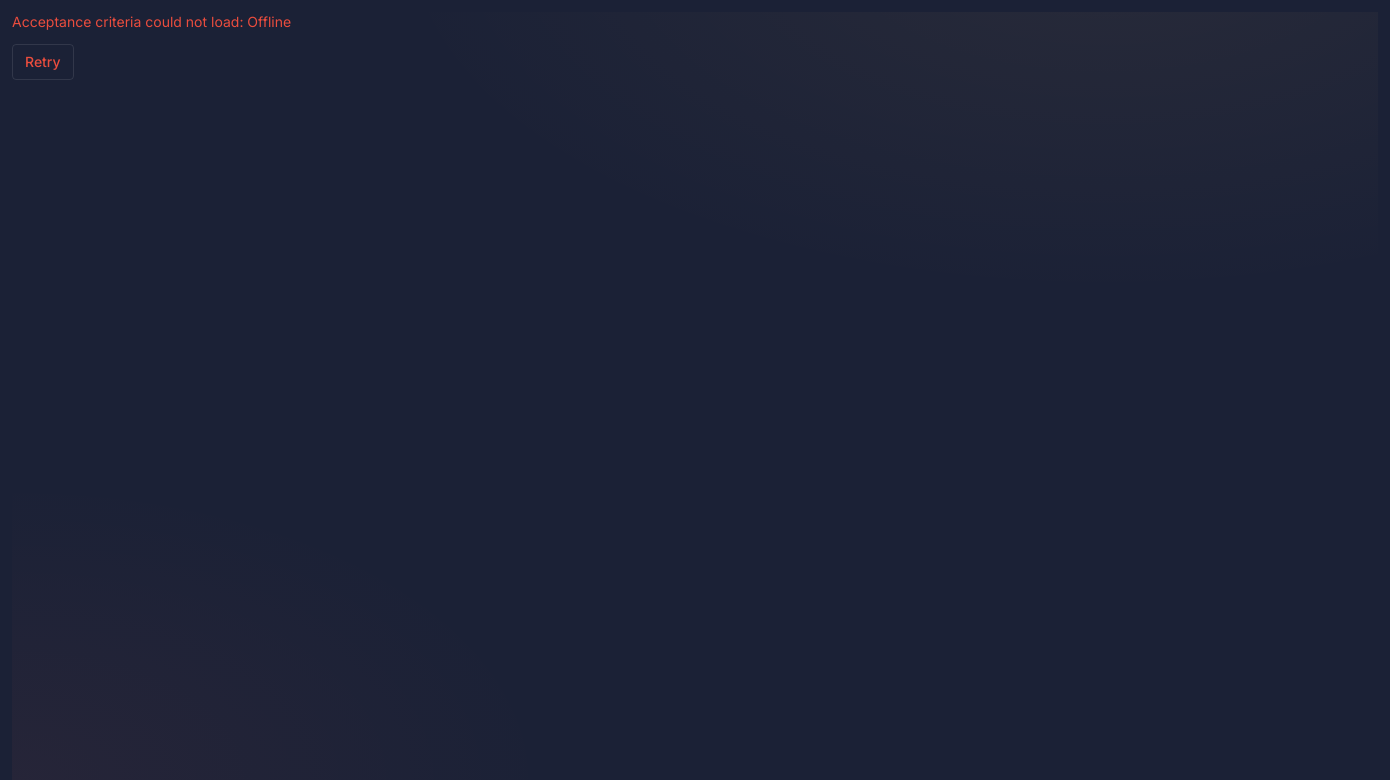
acceptance criteria lazy loading safety › failed loading never writes an empty value, and can retry
This screenshot has width=1390, height=780.
Expected: the message "Acceptance criteria could not load: Offline Retry" is shown, [12, 13, 291, 80]
Click the button "Retry". click: (43, 62)
box: [12, 44, 74, 80]
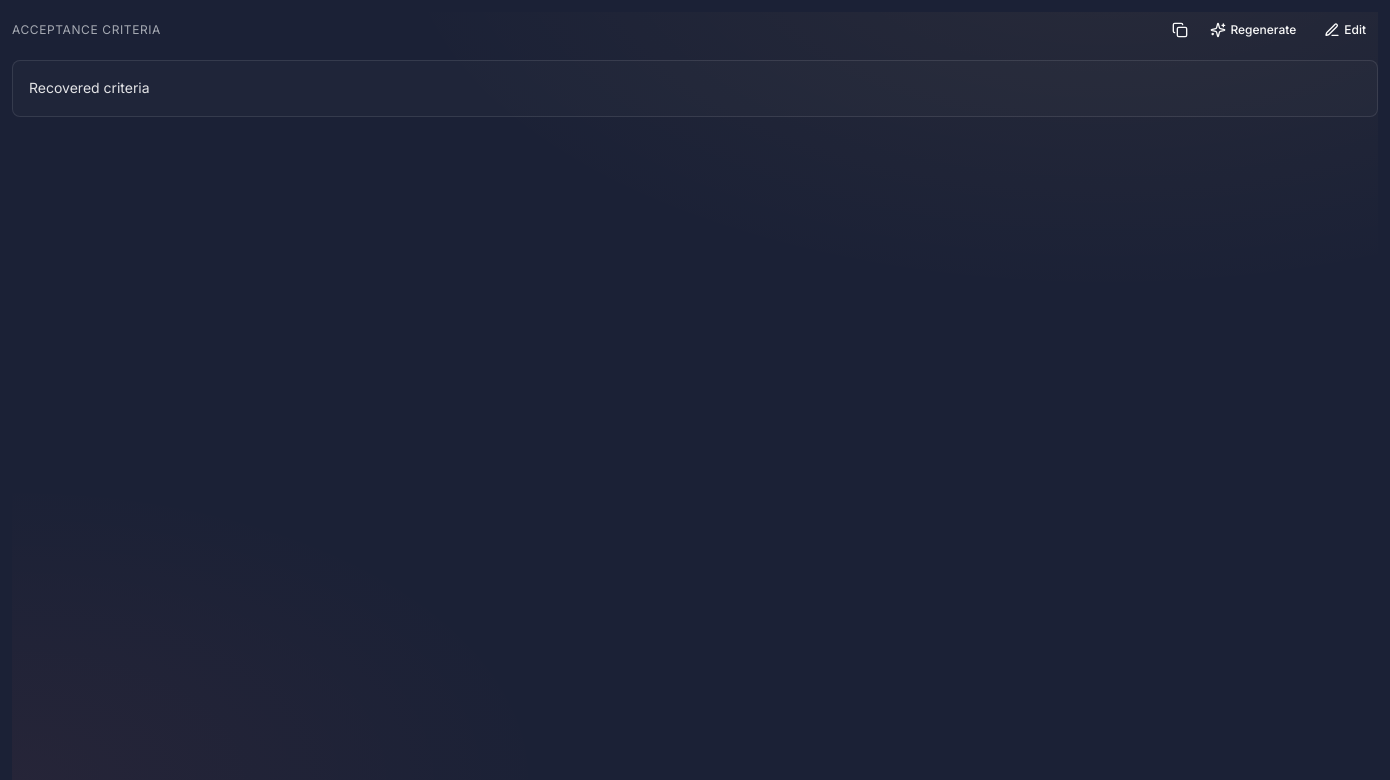
Result: the button "Edit" is enabled
Click the button "Edit". click: (1345, 30)
box: [1312, 12, 1378, 48]
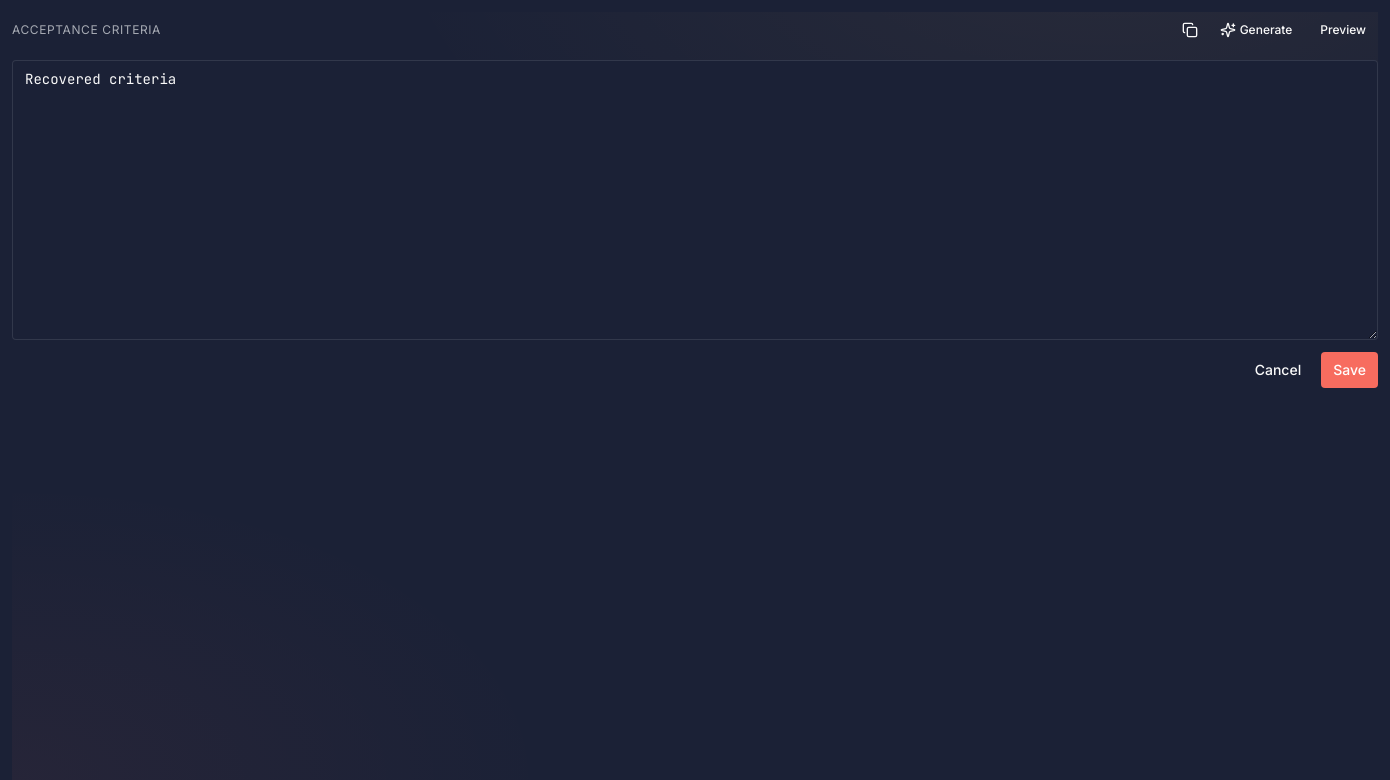
Result: the text box holds "Recovered criteria" at [12, 60, 1378, 340]
